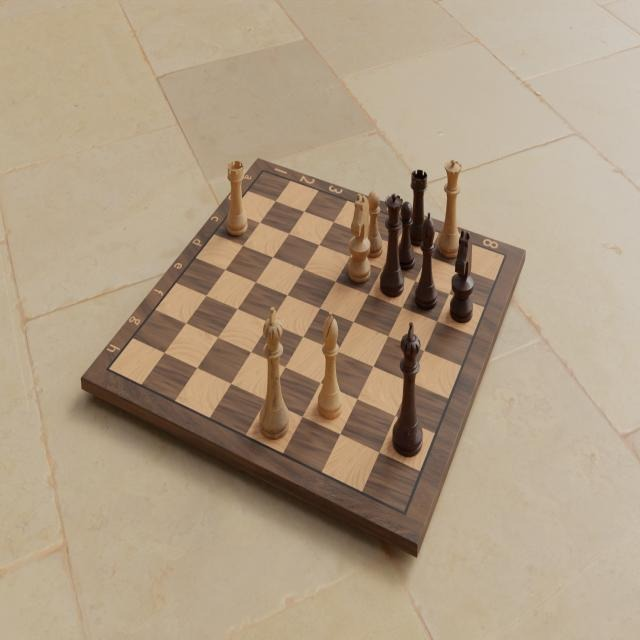black-bishop: (413, 211, 438, 311)
black-king: (391, 319, 425, 460)
black-knight: (448, 228, 476, 328)
black-pawn: (395, 198, 417, 272)
black-queen: (379, 189, 405, 298)
black-rook: (405, 165, 429, 247)
white-bishop: (315, 308, 345, 425)
white-king: (256, 300, 291, 442)
white-knight: (346, 190, 374, 286)
white-pawn: (362, 185, 385, 258)
white-queen: (435, 156, 463, 259)
white-rook: (223, 158, 249, 238)
